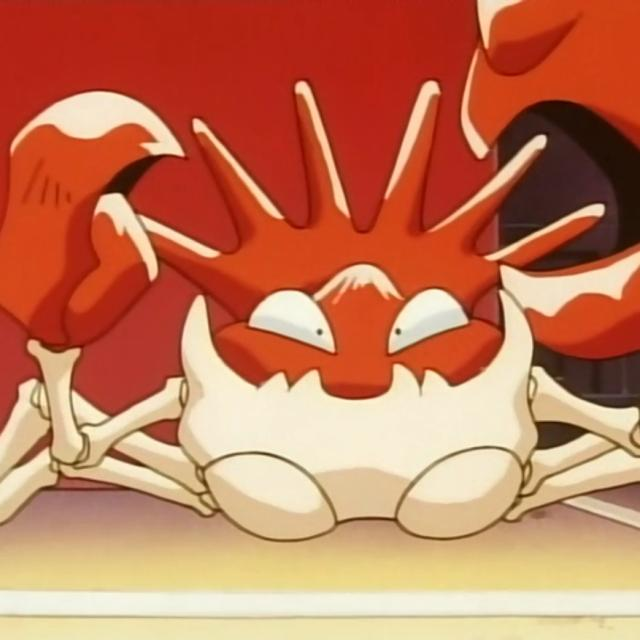Kingler: (16, 87, 618, 540)
